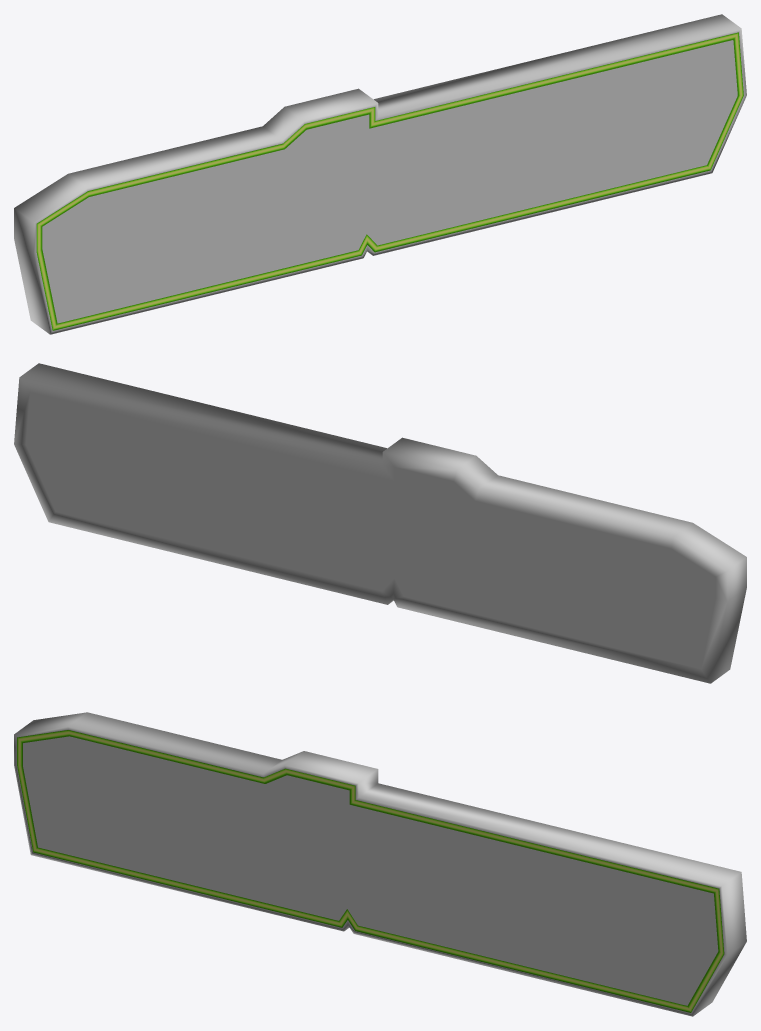
Rendered from sign_08.fbx.
The picture shows the model from 3 angles, top to bottom: view 1: azimuth 30°, elevation 25°; view 2: azimuth 150°, elevation 25°; view 3: azimuth 330°, elevation 25°; orthographic projection.
Visible parts, largest first — view 1: sign_08; view 2: sign_08; view 3: sign_08.
Part boxes in pixels (box(x1,y1,x2,y2)): sign_08: box(14, 14, 746, 334); sign_08: box(14, 363, 746, 683); sign_08: box(14, 712, 746, 1016).
Size of the model in its own units: 4.98 by 1.01 by 0.2361.
